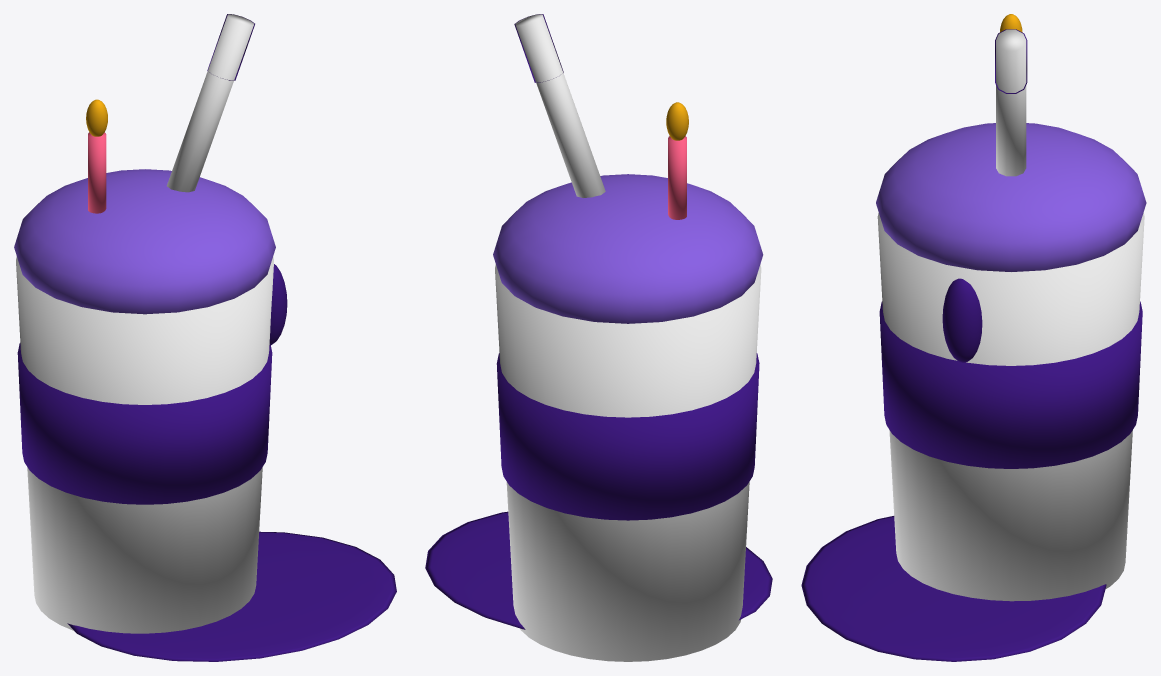
File: BirthdayShake.fbx
3 renders of one model, left to right at view 1: azimuth 30°, elevation 25°; view 2: azimuth 150°, elevation 25°; view 3: azimuth 270°, elevation 25°, orthographic. The views are drawn at different scales.
Parts seen in each view (by area): view 1: BirthdayShake; view 2: BirthdayShake; view 3: BirthdayShake.
Boxes of the visible parts, x1,y1,x2,y2 form: BirthdayShake: (14,14,396,661); BirthdayShake: (425,14,772,661); BirthdayShake: (801,14,1146,661).
Bounding box in the file's own units: 2.01 × 3.33 × 1.81.
Materials: 1 (1 with a texture image).
